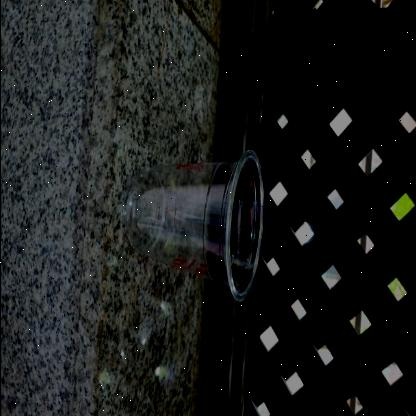Others: (120, 145, 270, 307)
